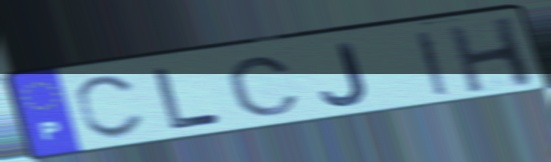C: (72, 72, 149, 142), (223, 55, 304, 119)
H: (442, 14, 539, 96)
I: (412, 27, 452, 98)
J: (317, 40, 372, 108)
L: (150, 65, 226, 133)
